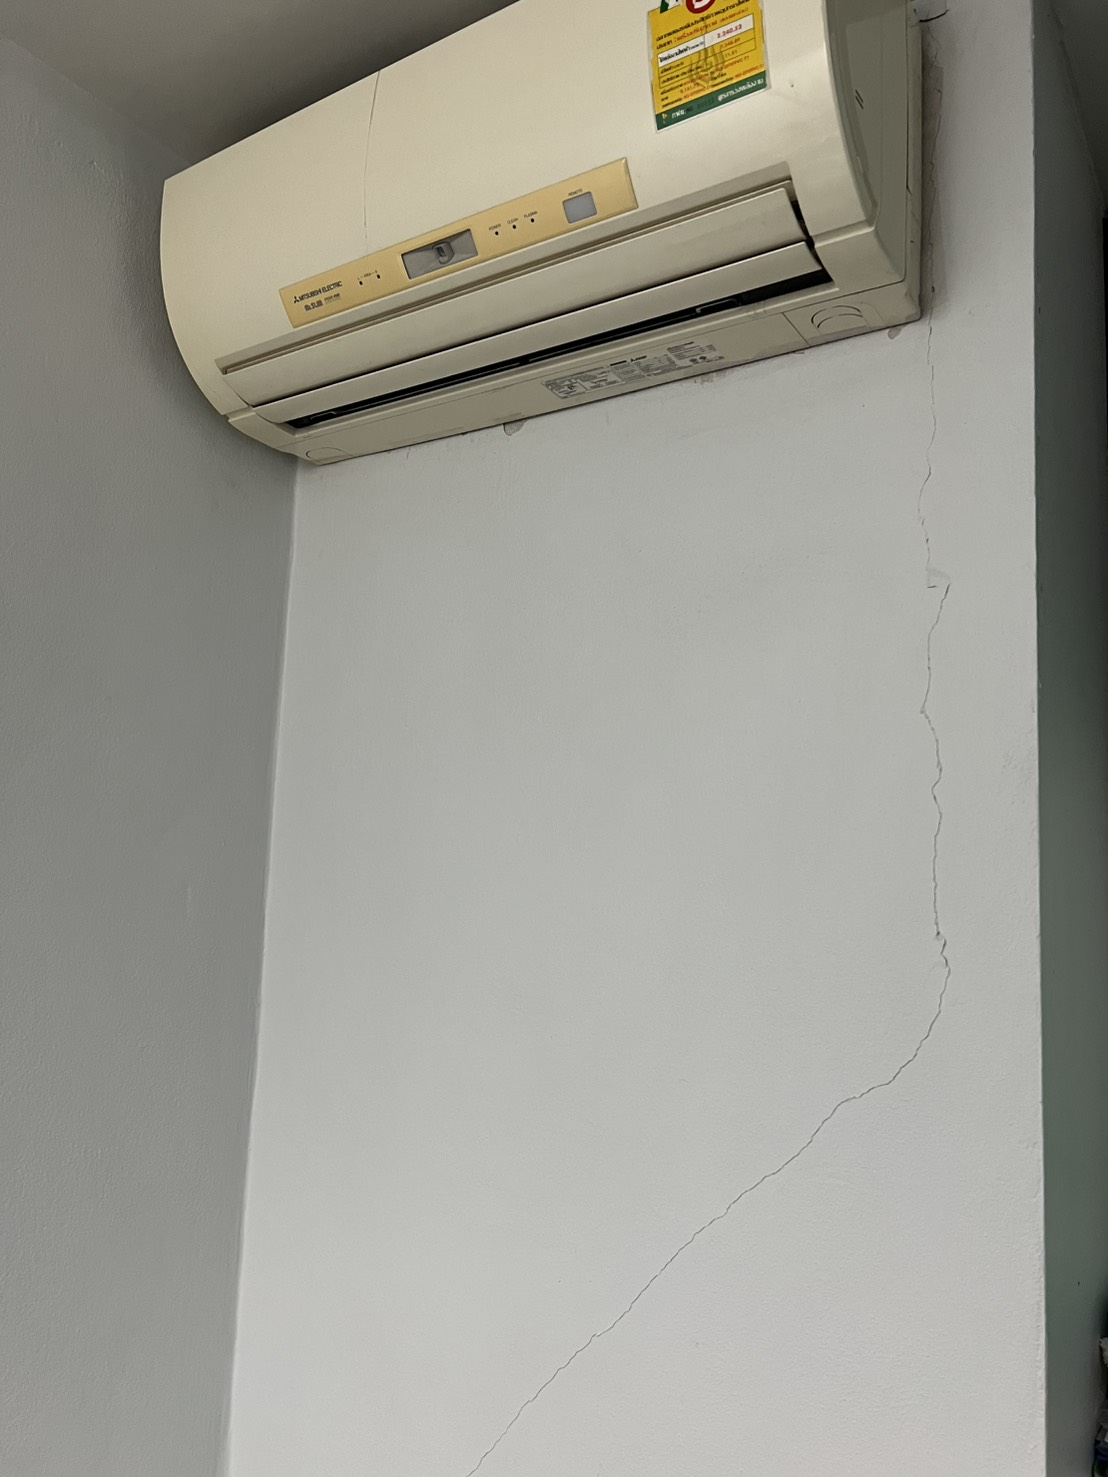Low: (474, 320, 988, 1467)
